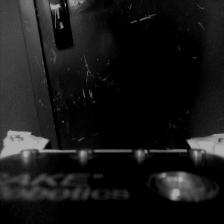Lock: (55, 6, 64, 28)
